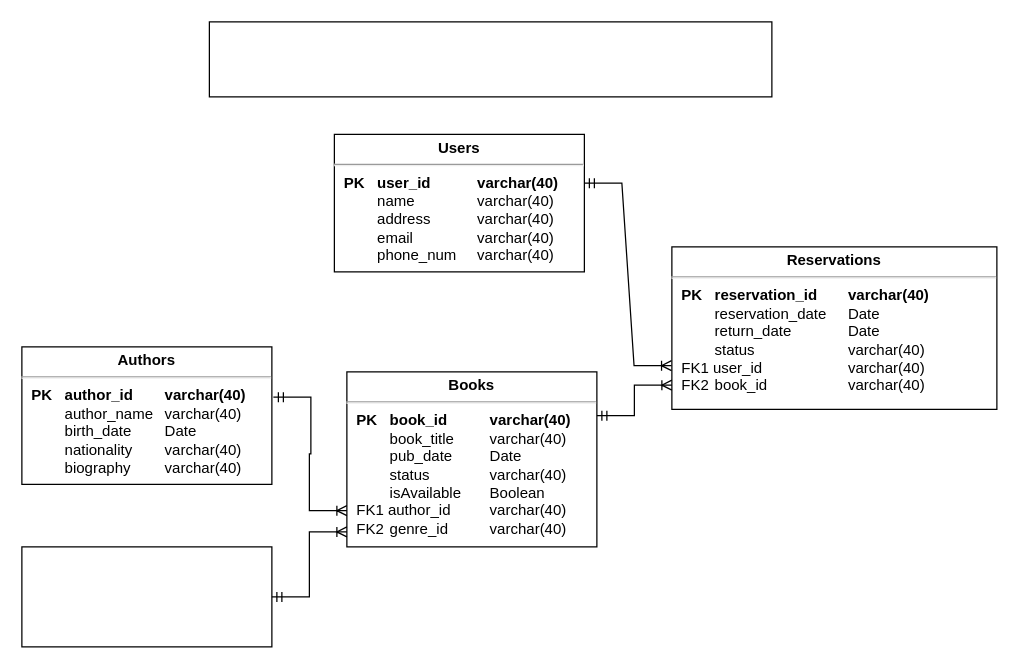
Image size: 1019x669. Some labels were removed from this diagram. The centre of each missing label's shape, as x and y in pixels:
Genres PK genre_ id varchar(40) genre_name varchar(40) description varchar(40): [146,596]
Library Management System Entity Relations Diagram: [490,59]
